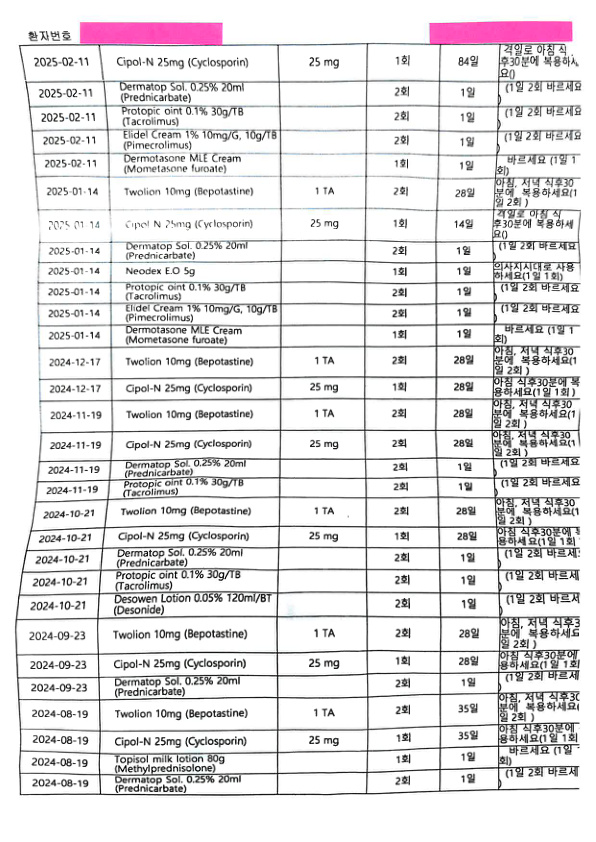row: (20, 44, 582, 81), (20, 691, 582, 723), (20, 618, 581, 650), (32, 178, 579, 210), (34, 211, 579, 242), (37, 347, 579, 377), (38, 400, 579, 430), (36, 498, 579, 527), (23, 745, 582, 773), (23, 766, 580, 793), (21, 670, 582, 696), (38, 431, 579, 457), (27, 81, 582, 106), (28, 105, 580, 130), (28, 130, 580, 155), (25, 594, 579, 618), (26, 723, 580, 746), (29, 570, 579, 593), (36, 302, 579, 325), (37, 477, 577, 500), (29, 155, 579, 177), (29, 548, 579, 570), (35, 261, 579, 283), (38, 377, 578, 399), (20, 650, 581, 671), (32, 527, 577, 548), (37, 283, 580, 304), (35, 325, 578, 346), (38, 242, 580, 262), (38, 459, 579, 479)
